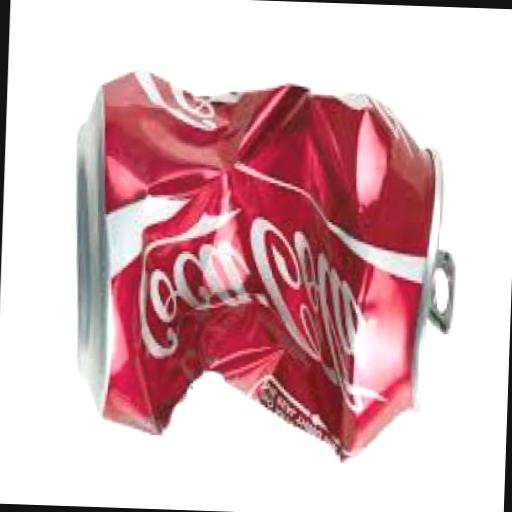metal: (66, 74, 461, 472)
